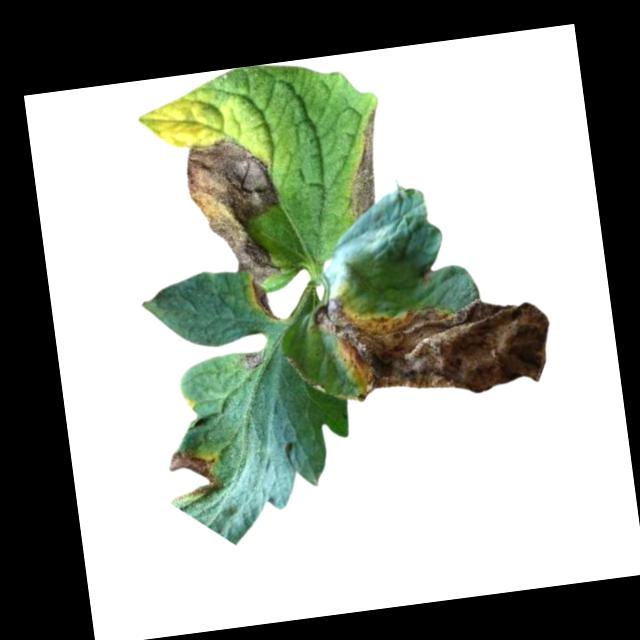Early_blight: (312, 269, 557, 412), (180, 135, 281, 287), (341, 110, 390, 222), (164, 445, 228, 504), (249, 280, 278, 324), (242, 349, 269, 369), (418, 265, 434, 284)
